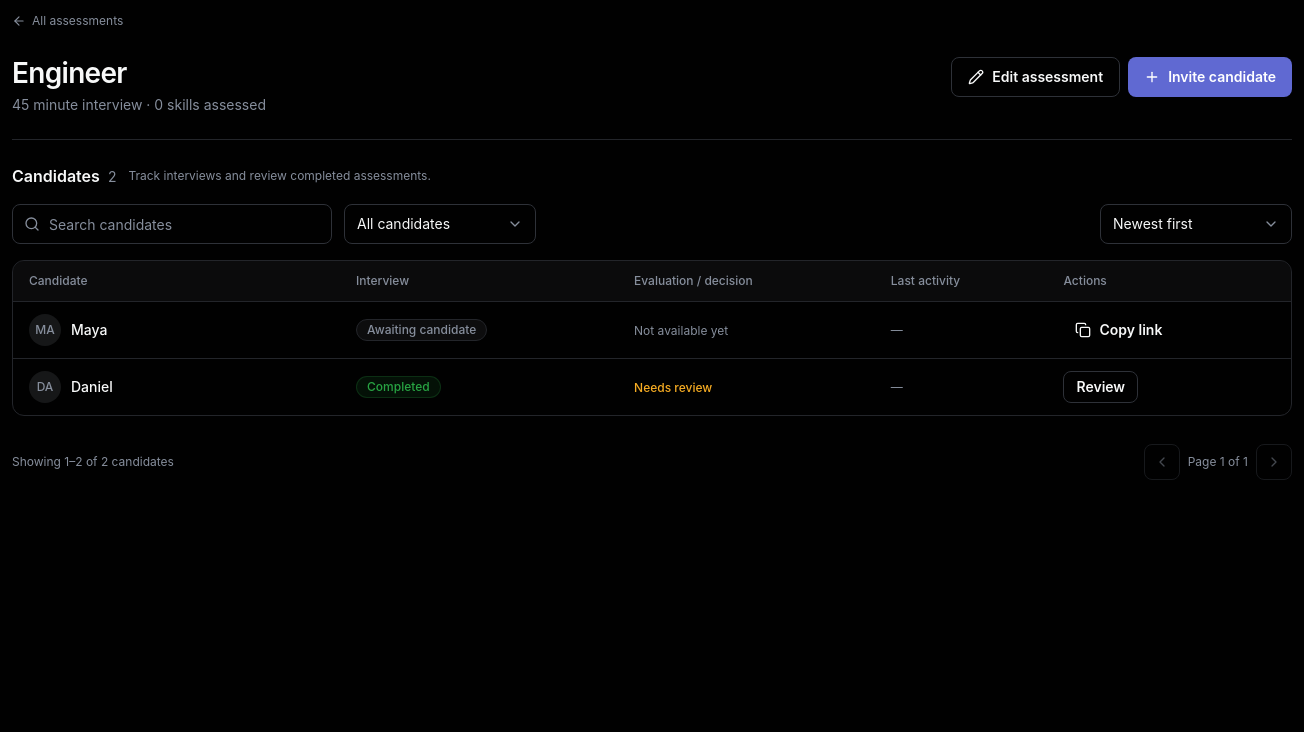
Test: Candidate workspace › does not claim a clipboard write succeeded when it fails
Check: the text "Maya" is shown, box top-left (71, 320), bottom-right (107, 340)
Click the button "Copy link": (1119, 330) top-left (1064, 314), bottom-right (1174, 346)
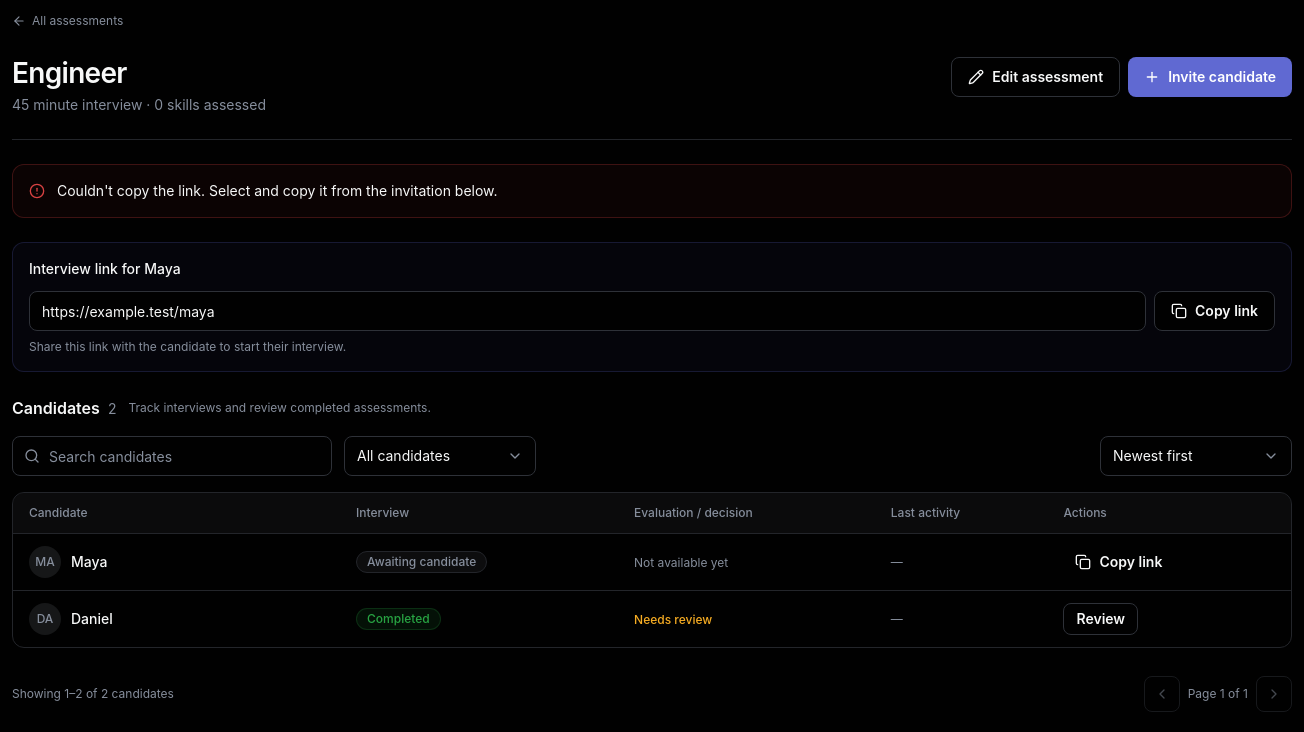
Check: the message "Couldn't copy the link. Select and copy it from the invitation below." is shown, box top-left (12, 164), bottom-right (1292, 218)
Check: the field named "Candidate invitation link" holds "https://example.test/maya", box top-left (29, 291), bottom-right (1146, 331)
